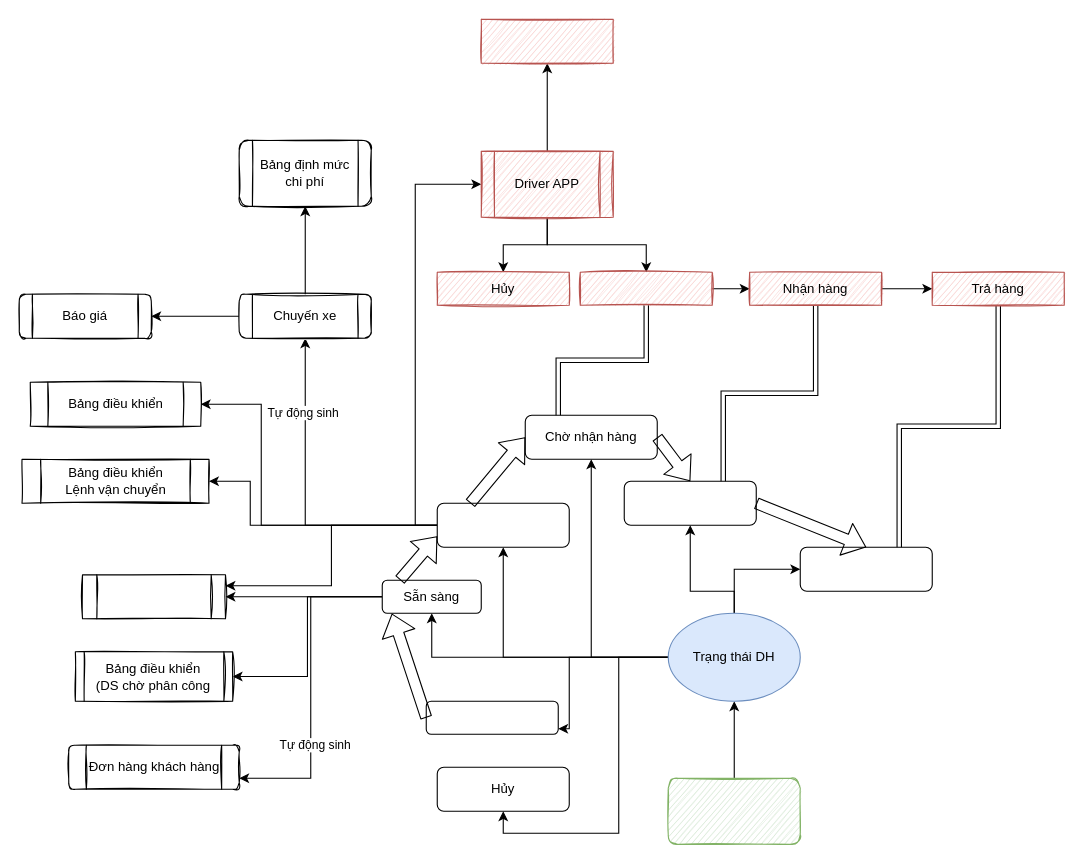
Some shapes in this 1084 by 864 pixel diagram are drawn without their labels. The centre of each missing label's shape, as x and y in pixels:
Bảng điều khiển ĐHKH: point (153, 596)
Chờ tài xế xác nhận: point (502, 524)
Hoàn thành: point (865, 568)
Khởi tạo: point (491, 717)
Tải đình kèm: point (546, 40)
Xác nhận: point (645, 288)
Đang vận chuyển: point (689, 502)
Đơn hàng: point (733, 810)
